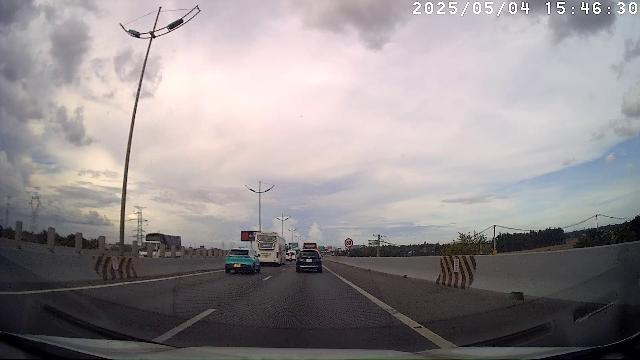127-toc-do-toi-da-80: (344, 238, 353, 248)
